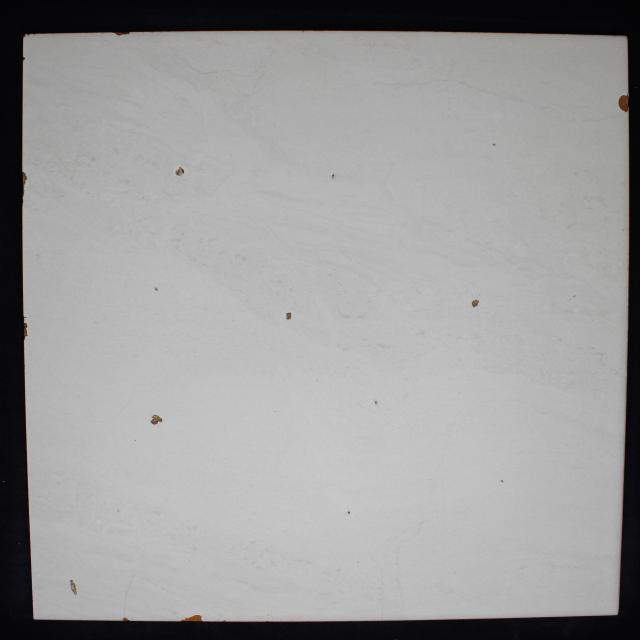edge-chipping: (618, 94, 629, 112), (189, 615, 203, 622), (112, 32, 130, 36), (24, 323, 28, 341), (22, 171, 27, 185), (22, 186, 25, 198), (180, 618, 188, 622), (23, 316, 28, 322), (122, 618, 130, 621), (22, 199, 24, 206), (23, 34, 26, 38), (23, 57, 25, 61)
hole: (70, 579, 78, 595), (150, 414, 162, 424), (175, 166, 185, 176), (472, 300, 479, 307), (286, 312, 292, 320), (332, 174, 334, 178), (348, 511, 350, 514), (501, 480, 504, 482), (375, 401, 377, 404), (493, 144, 496, 146), (155, 288, 157, 290)
line: (122, 574, 134, 617)
